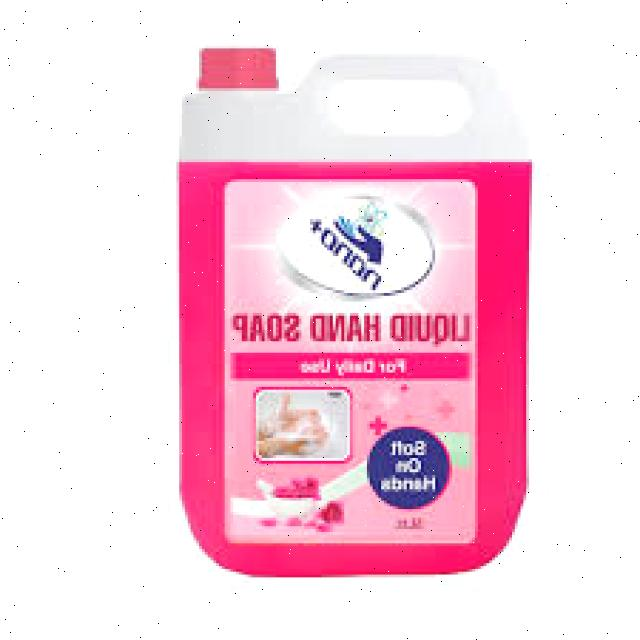liquid soap: (169, 39, 530, 575)
